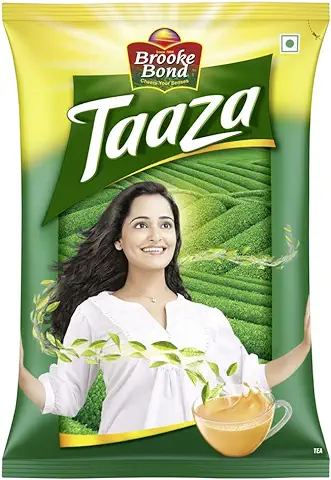Tea: (2, 3, 331, 480)
